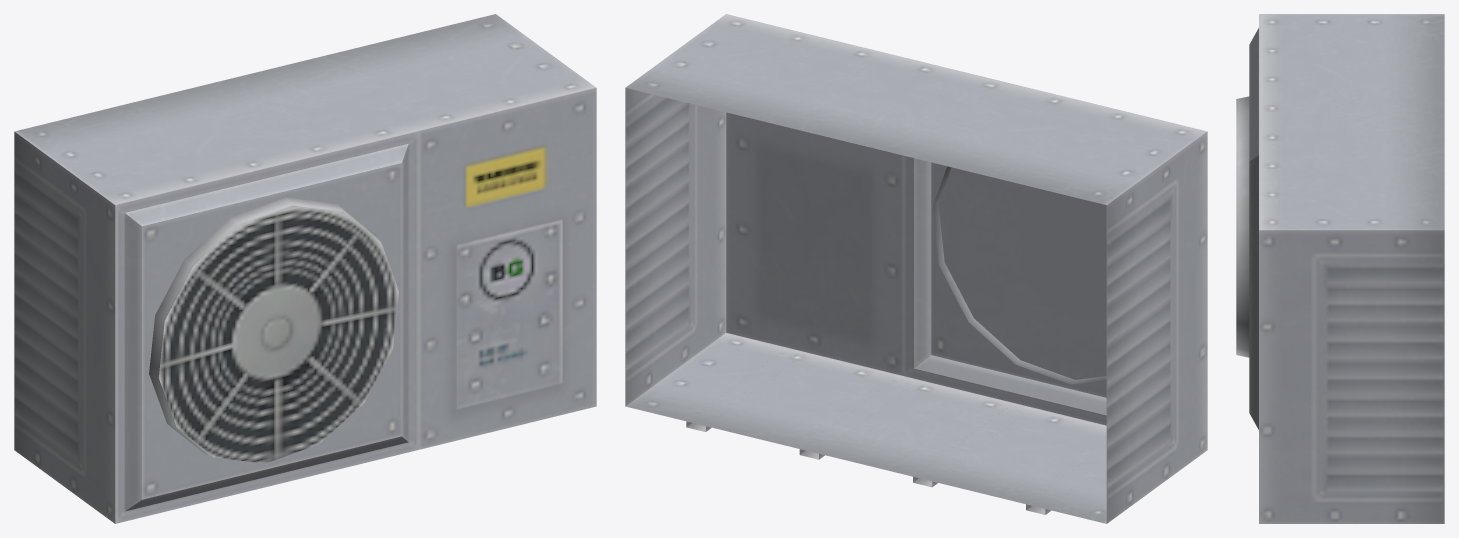
File: Air_cond_03_LOD1.fbx
3 renders of one model, left to right at view 1: azimuth 30°, elevation 25°; view 2: azimuth 150°, elevation 25°; view 3: azimuth 270°, elevation 25°, orthographic. The views are drawn at different scales.
Visible parts, largest first — view 1: air_conditioner_8_Mesh1; view 2: air_conditioner_8_Mesh1; view 3: air_conditioner_8_Mesh1.
Part boxes in pixels (<box>): air_conditioner_8_Mesh1: <box>14,14,596,523</box>; air_conditioner_8_Mesh1: <box>625,14,1207,523</box>; air_conditioner_8_Mesh1: <box>1236,14,1444,523</box>.
Size of the model in its own units: 130 by 83.56 by 52.79.
